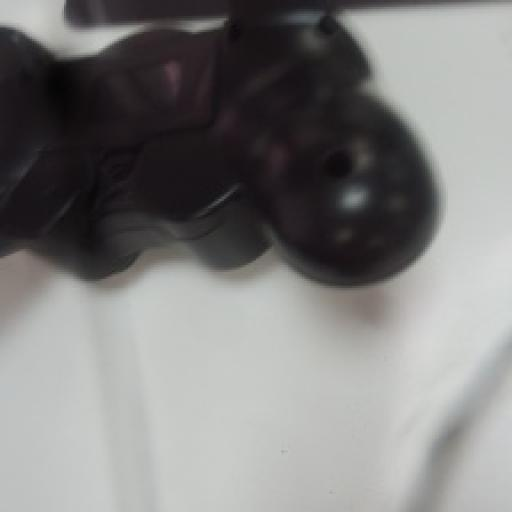game pad: (0, 13, 437, 283)
